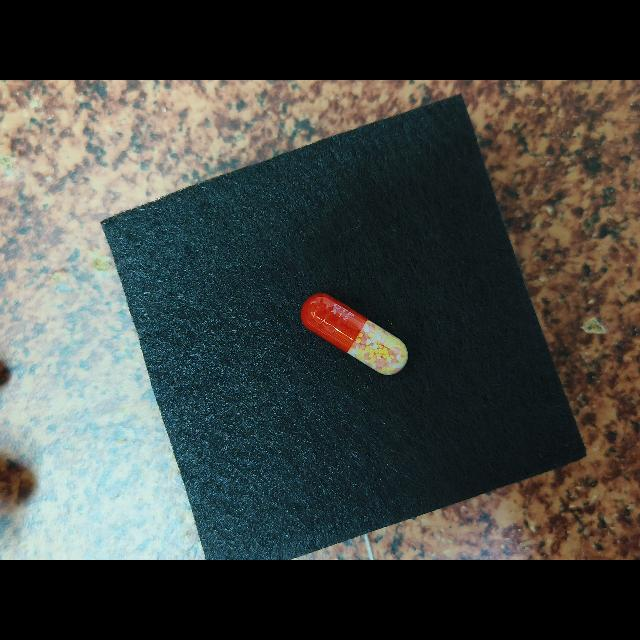Intact Capsule: (301, 293, 408, 375)
